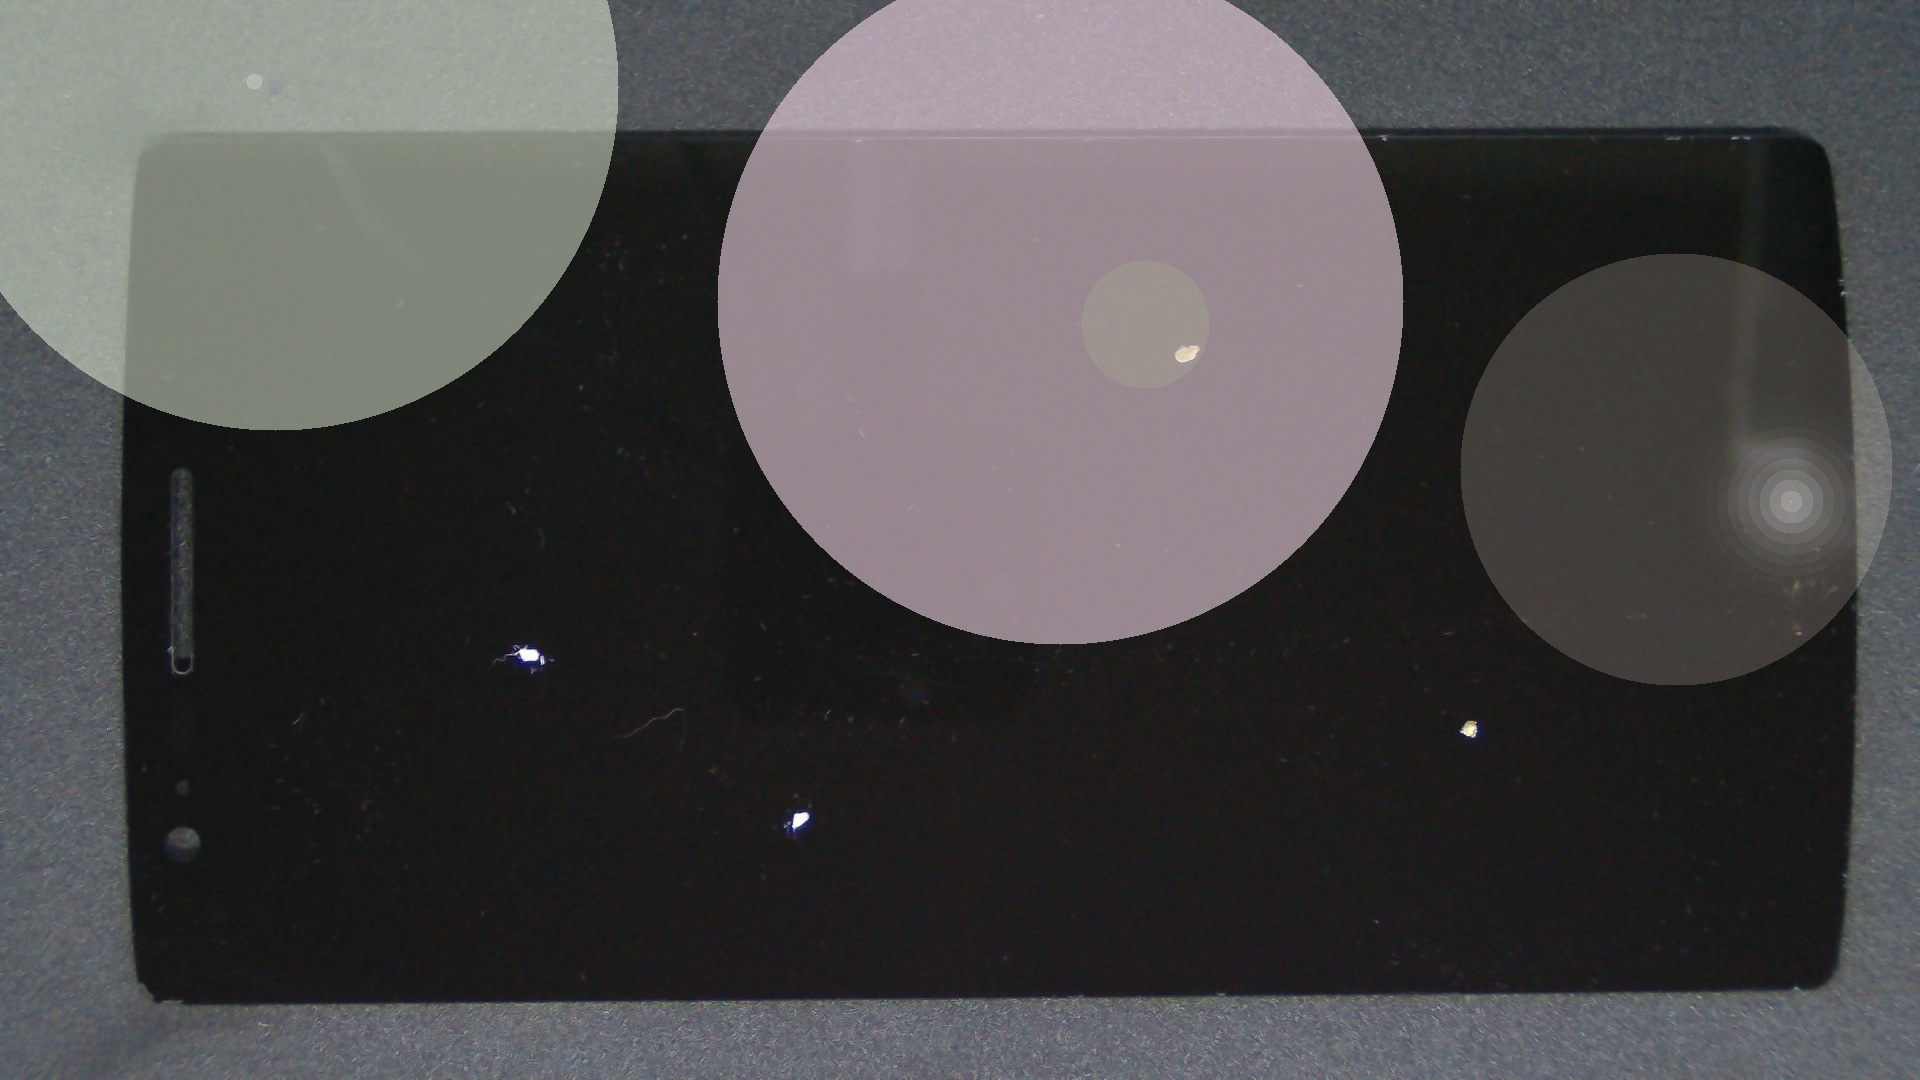oil: (735, 359, 1920, 1077), (405, 404, 1212, 1080), (600, 170, 1796, 513), (262, 320, 782, 964)
